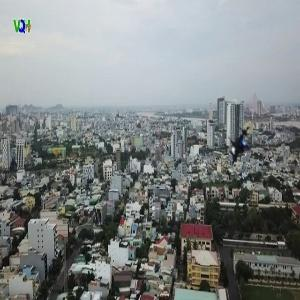drone: (219, 127, 267, 175)
